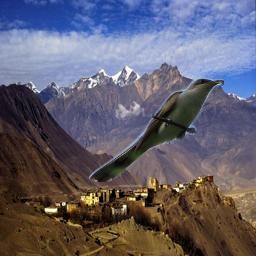Cuckoo: (89, 76, 224, 182)
